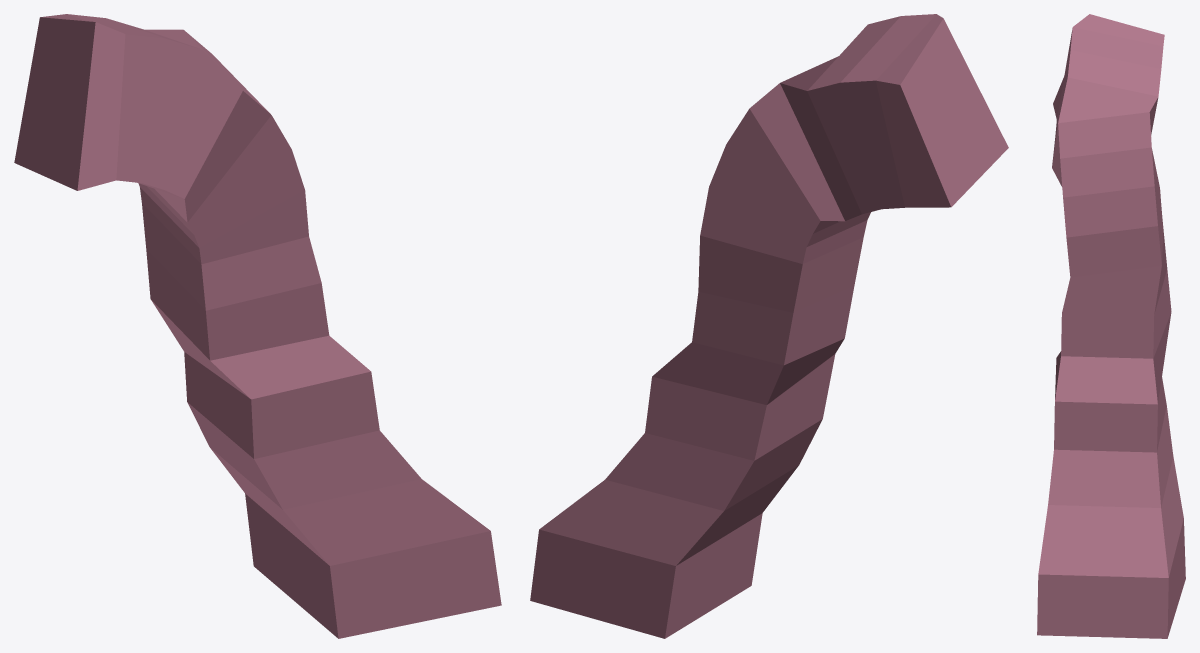
Rendered from Arch_01.fbx.
3 views of the same model, side by side, from view 1: azimuth 30°, elevation 25°; view 2: azimuth 150°, elevation 25°; view 3: azimuth 270°, elevation 25° (orthographic). The views are drawn at different scales.
Visible parts, largest first — view 1: Arch_01; view 2: Arch_01; view 3: Arch_01.
Boxes of the visible parts, x1,y1,x2,y2 form: Arch_01: (14, 14, 501, 638); Arch_01: (530, 14, 1008, 638); Arch_01: (1037, 14, 1185, 638).
Bounding box in the file's own units: 1051 × 1573 × 433.
